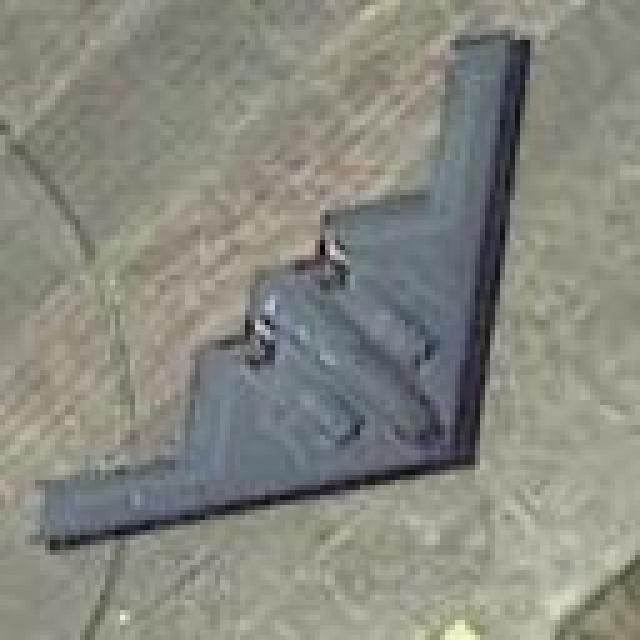B-2_TopDown: (25, 20, 535, 550)
